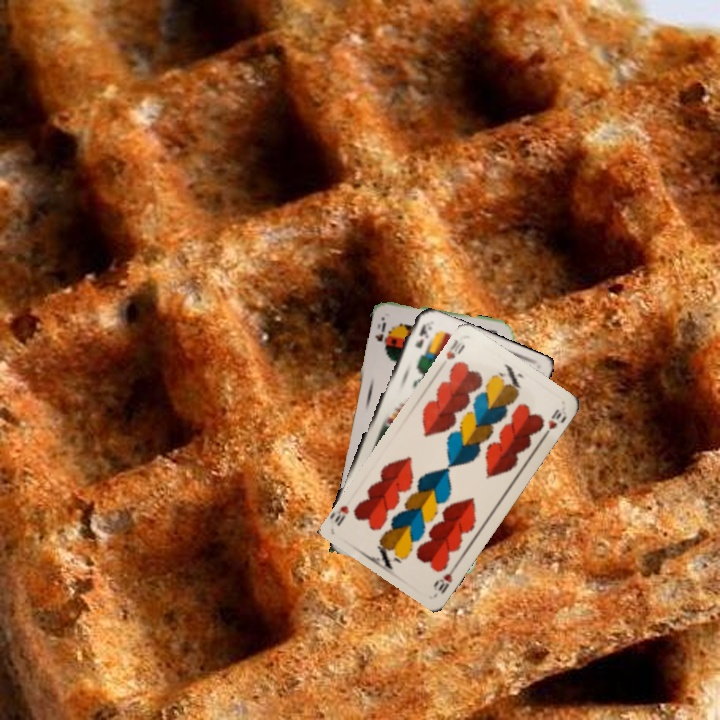EK: (411, 320, 431, 350)
H10: (429, 560, 460, 596), (442, 336, 468, 362)
SO: (371, 318, 388, 344)
